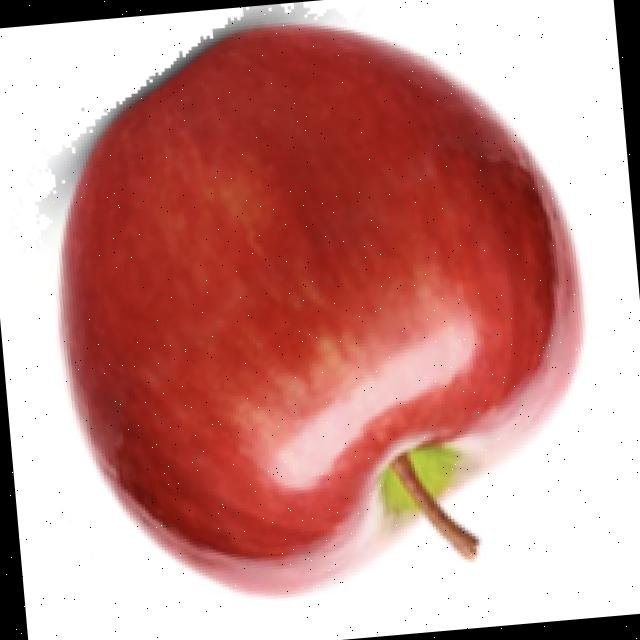apple: (33, 3, 591, 603)
